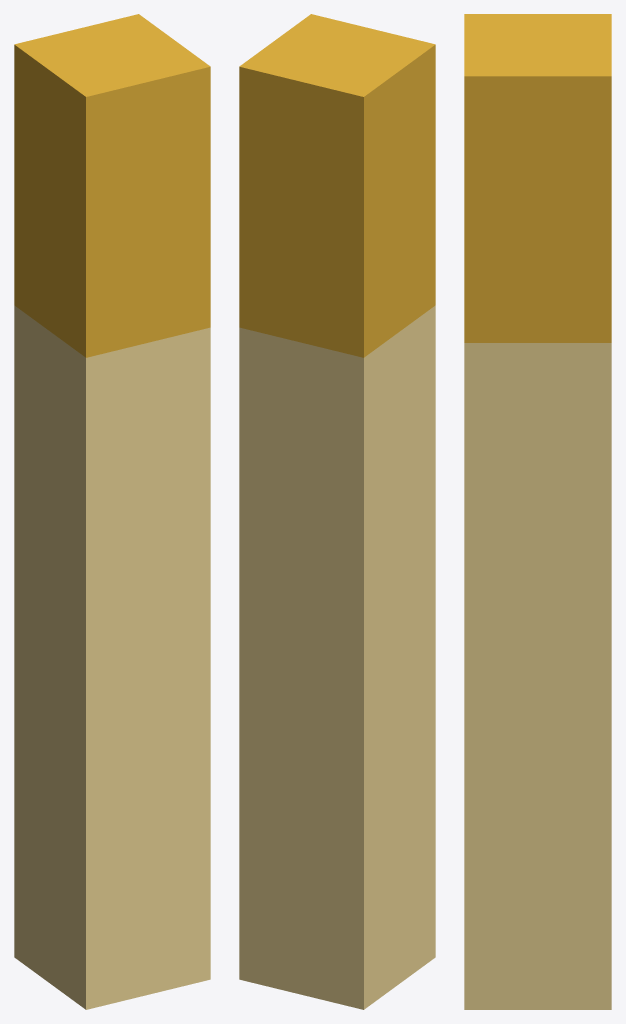
Rendered from human-23-right_hand_idle.obj.
3 renders of one model, left to right at view 1: azimuth 30°, elevation 25°; view 2: azimuth 150°, elevation 25°; view 3: azimuth 270°, elevation 25°, orthographic. The views are drawn at different scales.
Visible parts, largest first — view 1: right_hand_idle; view 2: right_hand_idle; view 3: right_hand_idle.
Boxes of the visible parts, box(x1,y1,x2,y2) form: right_hand_idle: box(14, 14, 210, 1009); right_hand_idle: box(239, 14, 435, 1009); right_hand_idle: box(464, 14, 611, 1009).
Bounding box in the file's own units: 0.1 × 0.7 × 0.1.
1 material, 1 textured.
